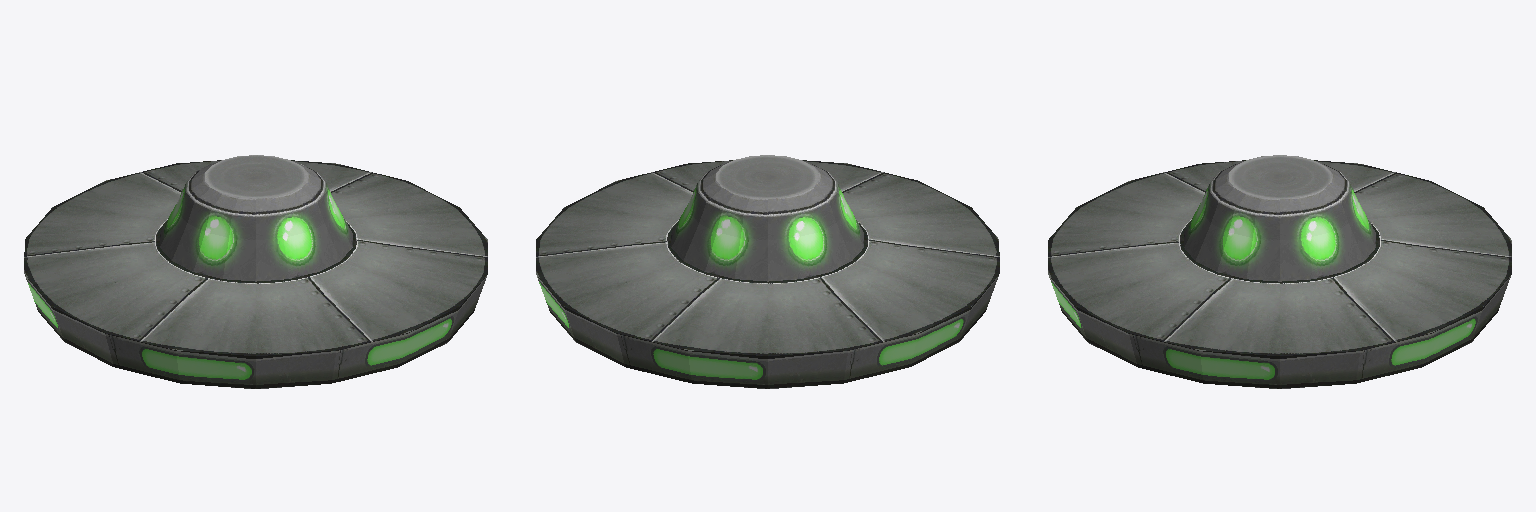
The picture shows the model from 3 angles: view 1: azimuth 30°, elevation 25°; view 2: azimuth 150°, elevation 25°; view 3: azimuth 270°, elevation 25°; orthographic projection.
Visible parts, largest first — view 1: default; view 2: default; view 3: default.
Part boxes in pixels (bbox=[...]): default: bbox=[24, 155, 487, 388]; default: bbox=[536, 155, 999, 388]; default: bbox=[1048, 155, 1511, 388].
Size of the model in its own units: 123 by 45.65 by 121.
1 materials, 1 textured.